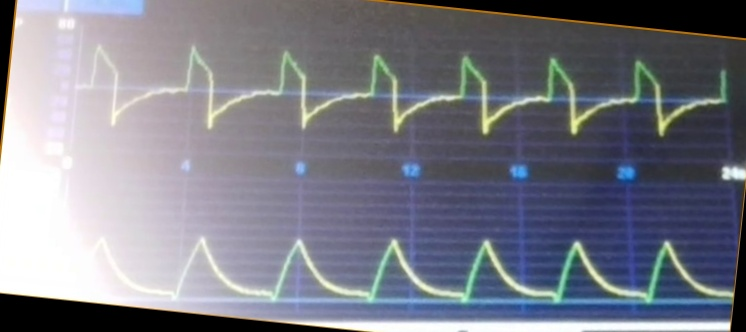Flow: (79, 43, 730, 152)
Leakage Volume: (94, 232, 726, 305)
